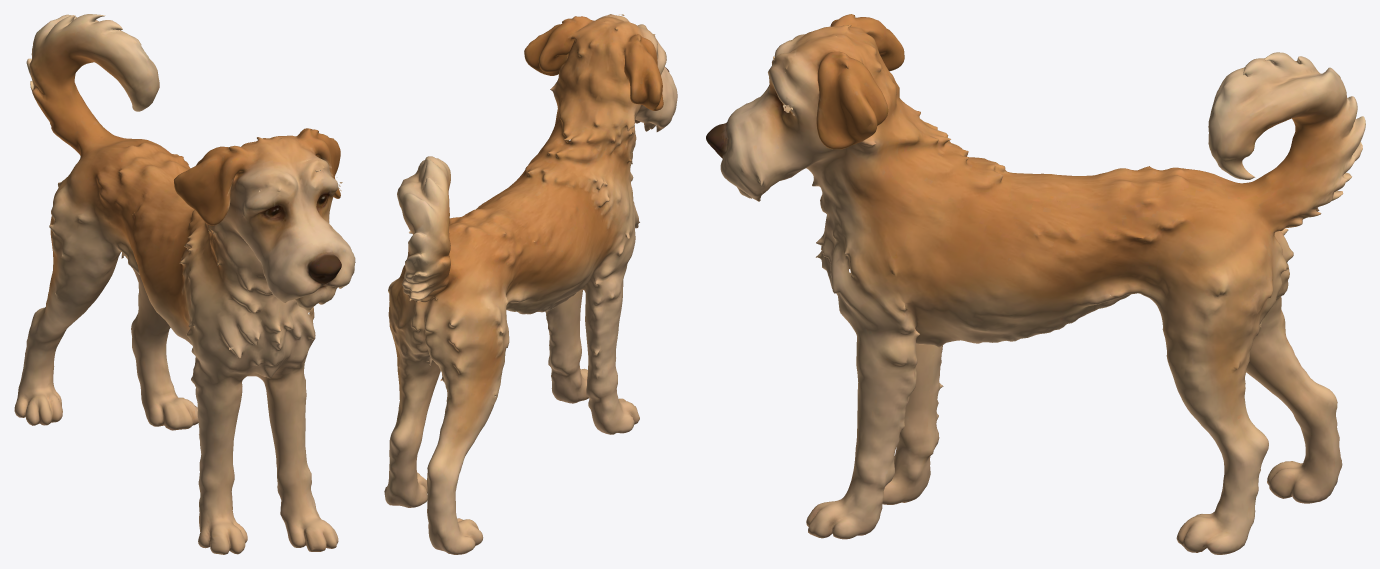
File: dog-terrier.glb
3 renders of one model, left to right at view 1: azimuth 30°, elevation 25°; view 2: azimuth 150°, elevation 25°; view 3: azimuth 270°, elevation 25°, orthographic. The views are drawn at different scales.
Visible parts, largest first — view 1: tripo_node_4aed32a8; view 2: tripo_node_4aed32a8; view 3: tripo_node_4aed32a8.
Part boxes in pixels (bbox=[...]): tripo_node_4aed32a8: bbox=[14, 14, 355, 554]; tripo_node_4aed32a8: bbox=[384, 14, 677, 554]; tripo_node_4aed32a8: bbox=[706, 14, 1365, 554].
Size of the model in its own units: 31.68 by 80.45 by 99.4.
1 material, 1 textured.
